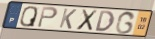D: (95, 10, 116, 33)
G: (114, 11, 137, 35)
K: (58, 8, 78, 30)
P: (36, 6, 59, 29)
Q: (19, 5, 39, 28)
X: (75, 8, 99, 32)
